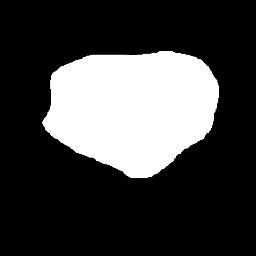mass: (40, 52, 212, 174)
